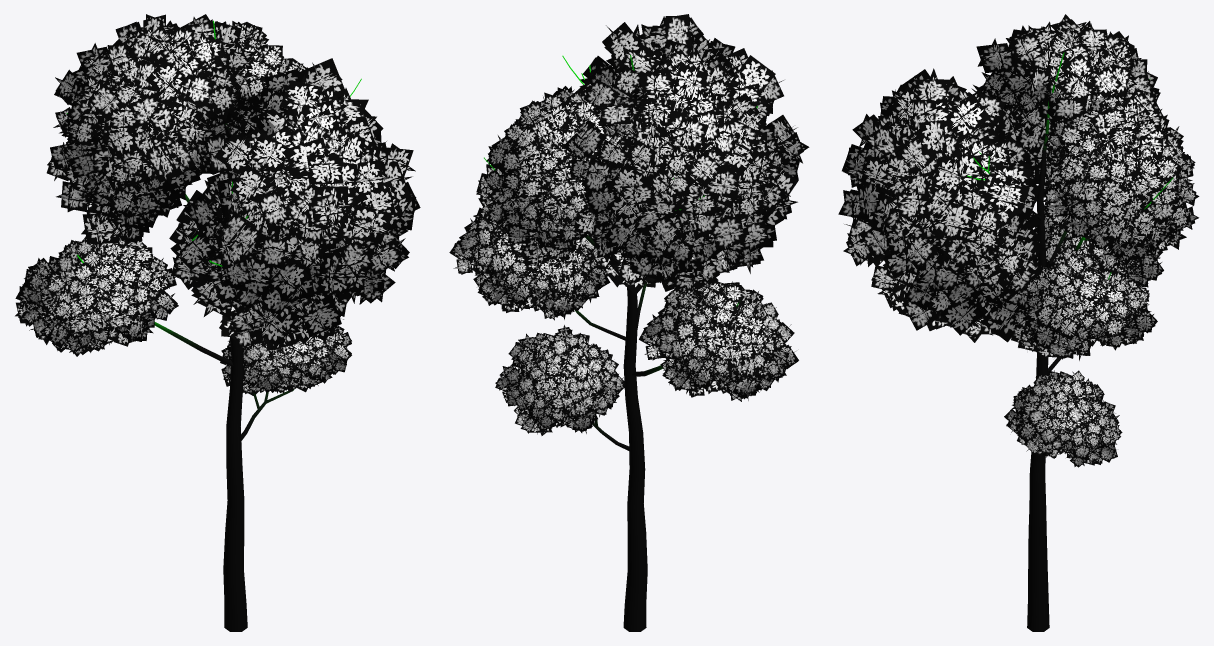
Rendered from SM_Tree_04.fbx.
The picture shows the model from 3 angles, left to right: view 1: azimuth 30°, elevation 25°; view 2: azimuth 150°, elevation 25°; view 3: azimuth 270°, elevation 25°; orthographic projection. The views are drawn at different scales.
Visible parts, largest first — view 1: Tree_01; view 2: Tree_01; view 3: Tree_01.
Part boxes in pixels (<box>): Tree_01: <box>15,14,420,631</box>; Tree_01: <box>449,14,809,631</box>; Tree_01: <box>838,14,1199,631</box>.
Bounding box in the file's own units: 354 × 609 × 343.
